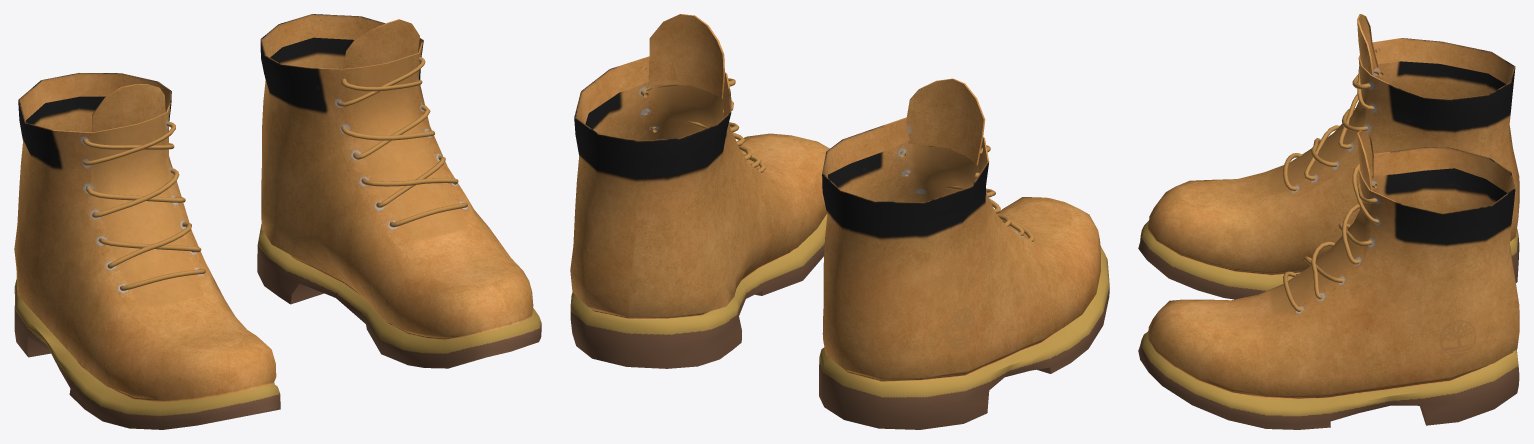
File: Timbs.glb
3 views of the same model, side by side, from view 1: azimuth 30°, elevation 25°; view 2: azimuth 150°, elevation 25°; view 3: azimuth 270°, elevation 25° (orthographic). The views are drawn at different scales.
Visible parts, largest first — view 1: Timbs; view 2: Timbs; view 3: Timbs.
Boxes of the visible parts, bbox=[...] form: Timbs: bbox=[14, 14, 541, 429]; Timbs: bbox=[570, 14, 1109, 429]; Timbs: bbox=[1138, 14, 1519, 429].
Size of the model in its own units: 0.996 by 0.6403 by 0.8476.
1 material, 1 textured.
